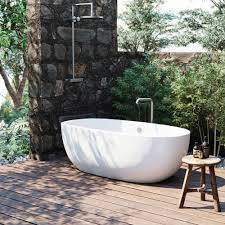bathub: (59, 114, 190, 184)
